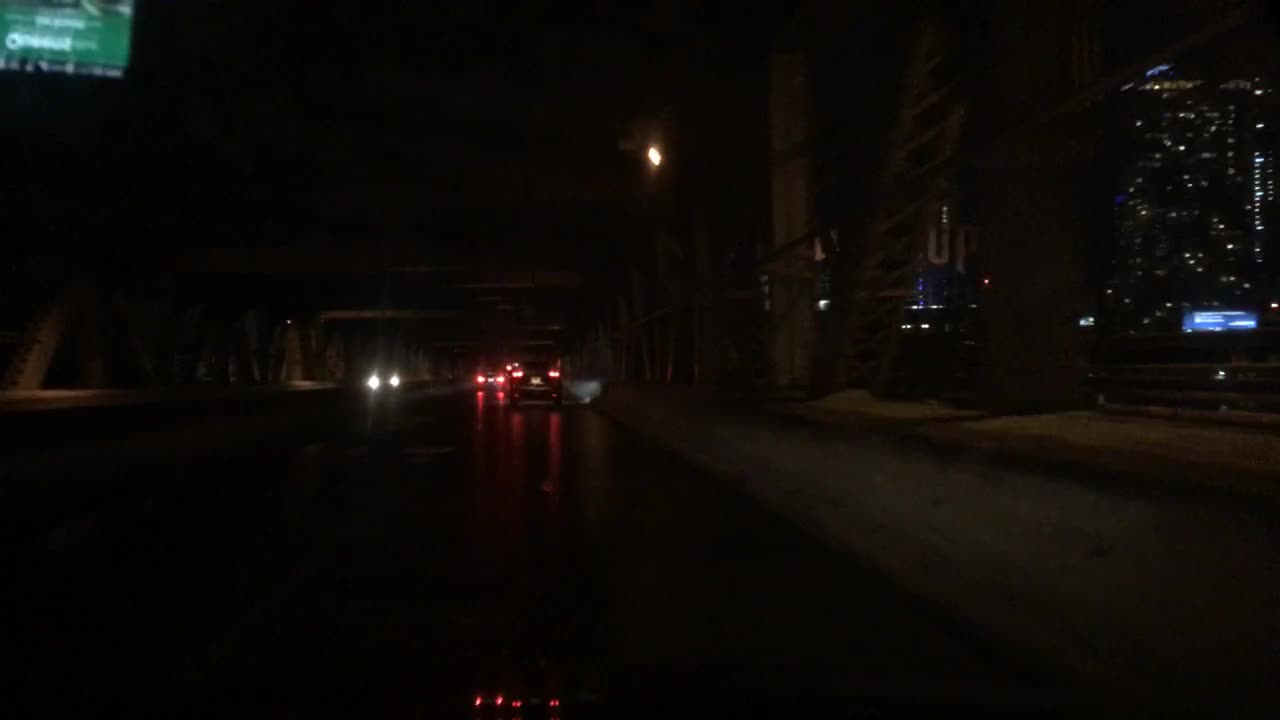car: (503, 353, 564, 407), (358, 362, 425, 387), (563, 373, 606, 405), (476, 362, 505, 389)
traffic sign: (0, 1, 135, 84)
